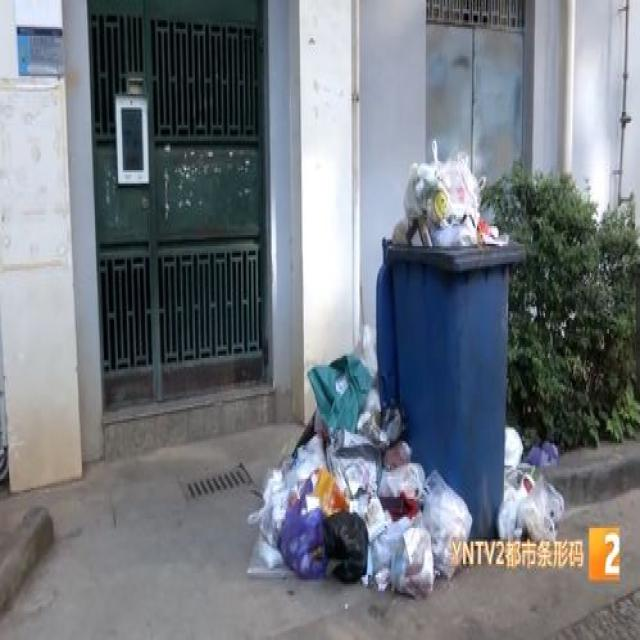garbage: (242, 349, 473, 598), (498, 425, 564, 539)
overflow: (373, 136, 526, 540)
